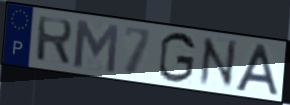7: (122, 25, 153, 77)
A: (233, 42, 281, 98)
G: (156, 30, 197, 85)
M: (72, 17, 121, 75)
N: (198, 35, 238, 89)
R: (35, 14, 76, 68)
